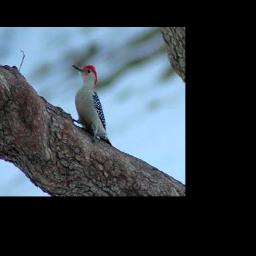Woodpecker: (71, 63, 113, 148)
